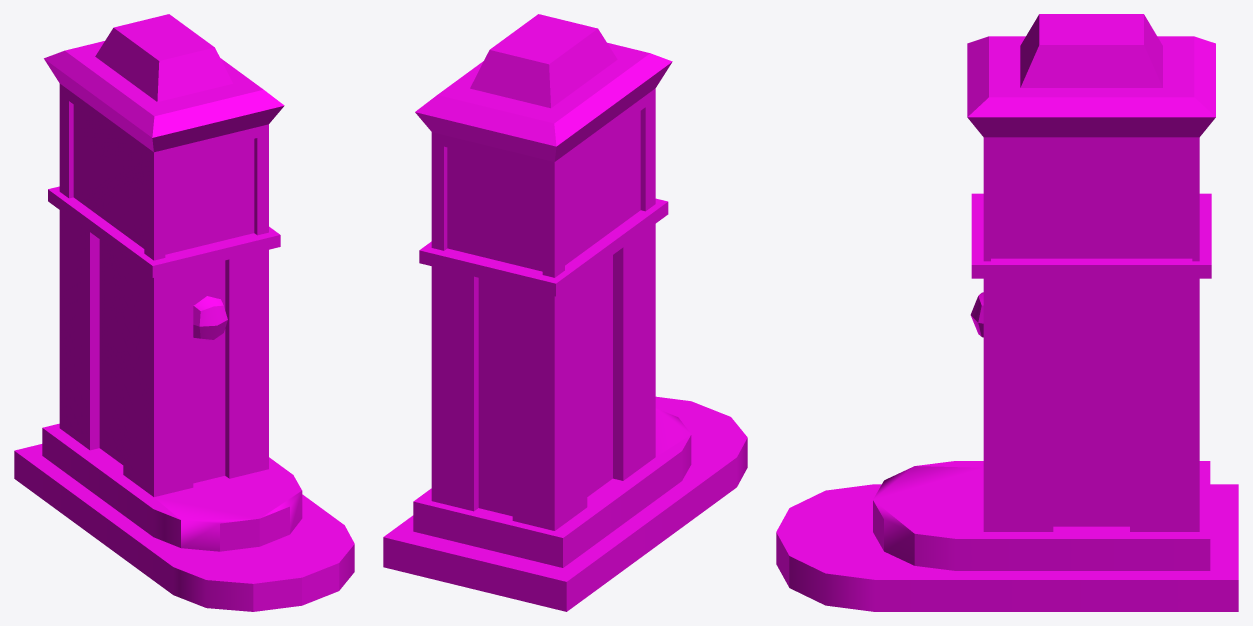
The model's file is fountain.fbx.
The picture shows the model from 3 angles, left to right: view 1: azimuth 30°, elevation 25°; view 2: azimuth 150°, elevation 25°; view 3: azimuth 270°, elevation 25°; orthographic projection. The views are drawn at different scales.
Visible parts, largest first — view 1: fountain_ornament; view 2: fountain_ornament; view 3: fountain_ornament.
Part boxes in pixels (<box>): fountain_ornament: <box>14,14,354,611</box>; fountain_ornament: <box>383,14,747,611</box>; fountain_ornament: <box>776,14,1238,611</box>.
Bounding box in the file's own units: 224 × 583 × 457.
